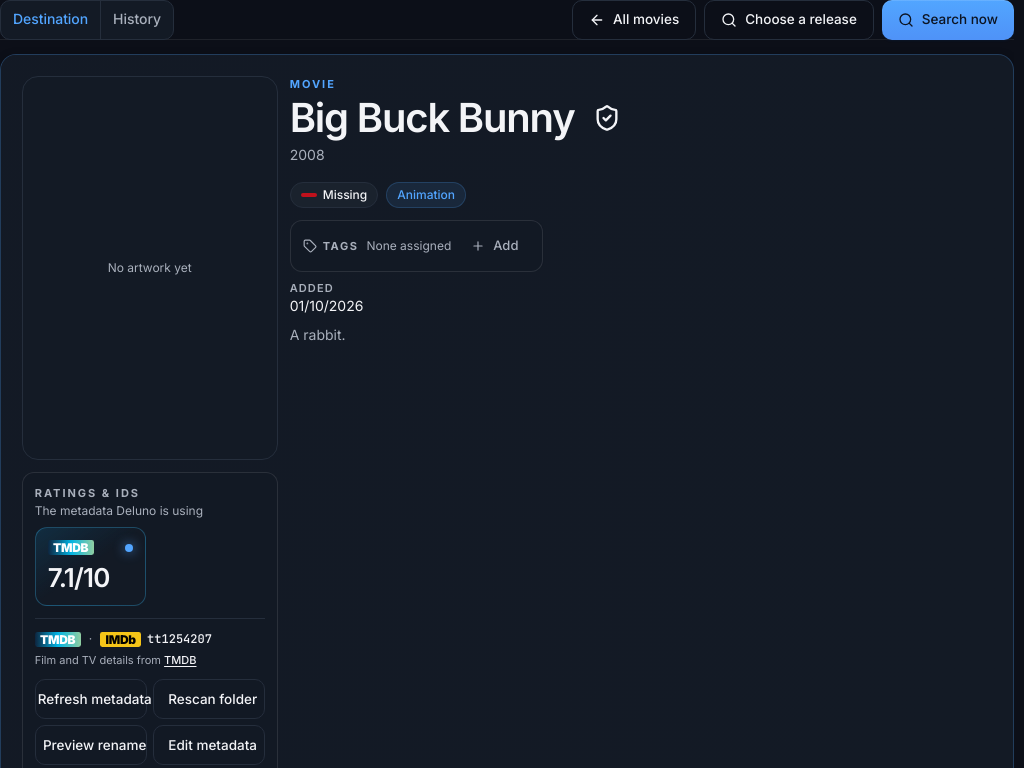
the film's History tab Activity card (low rows) › lists the latest 10 events for the film, read for this film, with the link to everything about it
Check: the heading "Big Buck Bunny" is shown, box x1=290 y1=96 x2=574 y2=139
Click the radio button labelled "History" at (137, 20), box x1=101 y1=0 x2=173 y2=38
(page scrolled)
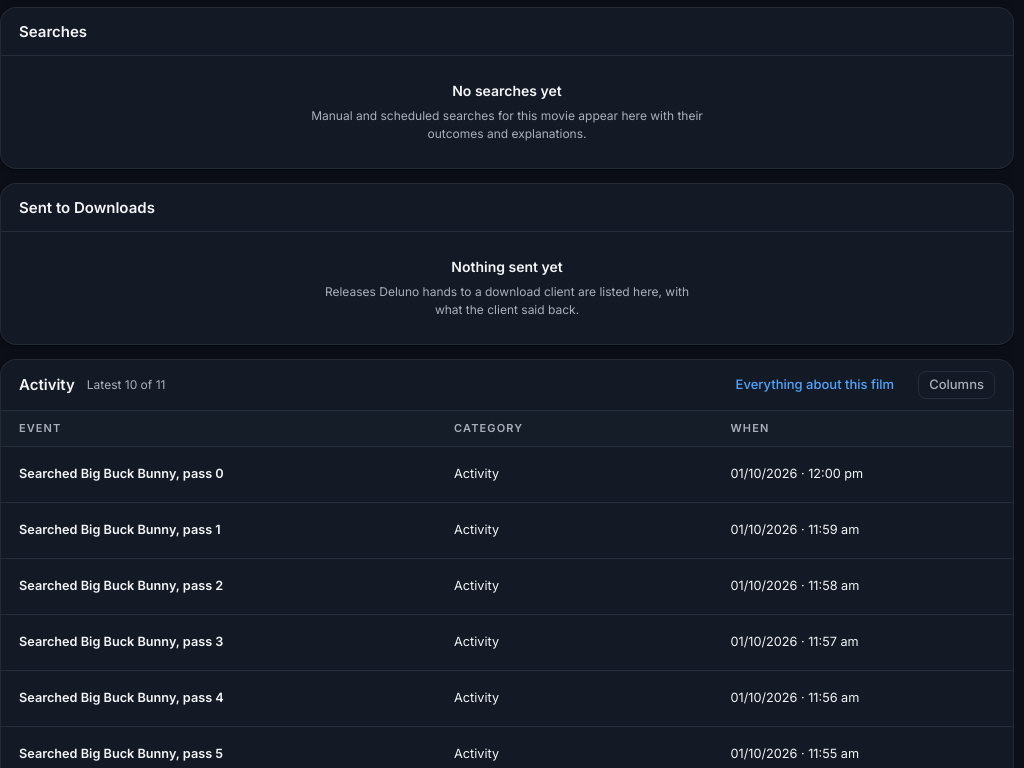
Check: the text "Searched Big Buck Bunny, pass 0" is shown, box x1=19 y1=466 x2=224 y2=481
